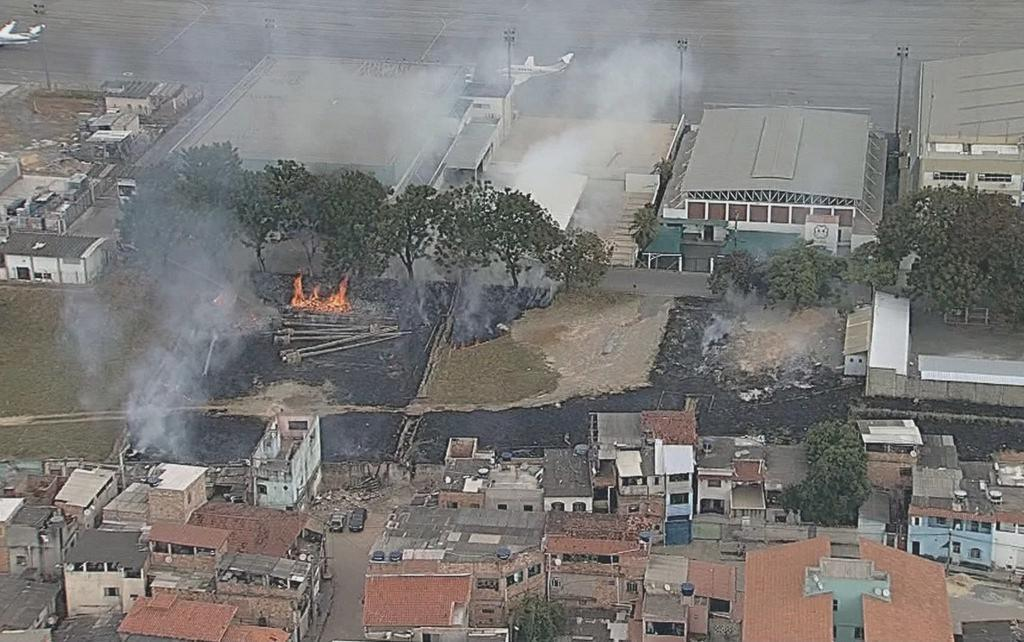fire: (284, 273, 355, 307)
smoke: (264, 19, 655, 204), (76, 229, 249, 471)
